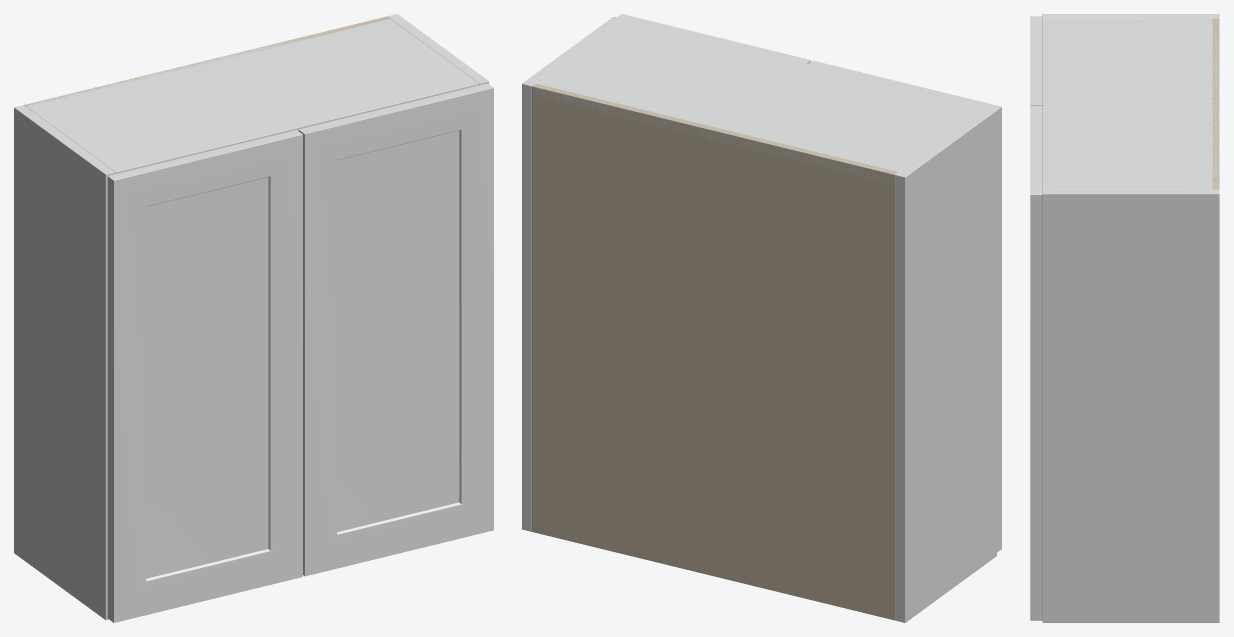
The model's file is PLY-WSS-W2730.glb.
3 renders of one model, left to right at view 1: azimuth 30°, elevation 25°; view 2: azimuth 150°, elevation 25°; view 3: azimuth 270°, elevation 25°, orthographic. The views are drawn at different scales.
Visible parts, largest first — view 1: Shaker door, Shaker door.001, Carcass left, Carcass top, Carcass back, Carcass right; view 2: Carcass back, Carcass left, Carcass top, Carcass right, Shaker door, Shaker door.001; view 3: Carcass right, Carcass top, Shaker door.001, Carcass back, Shaker door, Carcass left.
Boxes of the visible parts, <box> form: Shaker door: <box>107,130,302,622</box>; Shaker door.001: <box>298,83,493,576</box>; Carcass left: <box>14,105,115,620</box>; Carcass top: <box>24,17,478,173</box>; Carcass back: <box>24,16,389,106</box>; Carcass right: <box>388,14,488,85</box>; Carcass back: <box>532,83,898,620</box>; Carcass left: <box>895,107,996,622</box>; Carcass top: <box>532,19,986,184</box>; Carcass right: <box>522,16,623,531</box>; Shaker door: <box>808,60,1001,552</box>; Shaker door.001: <box>617,14,810,63</box>; Carcass right: <box>1042,189,1219,622</box>; Carcass top: <box>1042,18,1219,189</box>; Shaker door.001: <box>1030,106,1042,620</box>; Carcass back: <box>1212,18,1219,189</box>; Shaker door: <box>1030,16,1042,105</box>; Carcass left: <box>1042,14,1219,18</box>.
Size of the model in its own units: 0.6858 by 0.762 by 0.3048.
